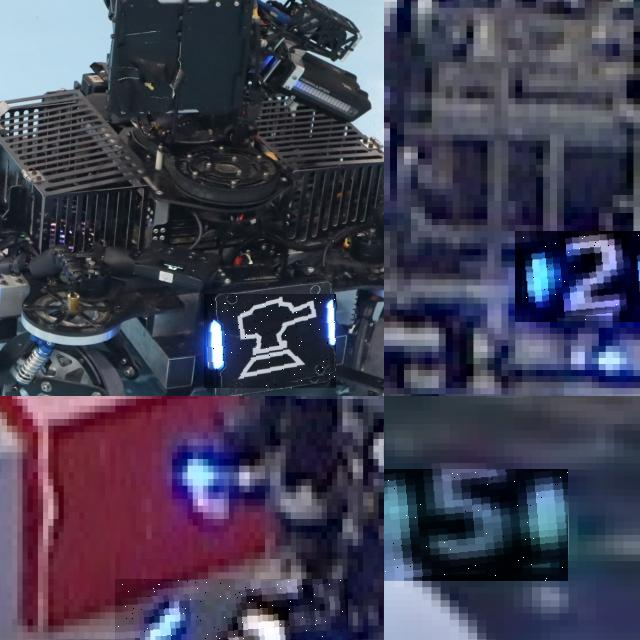B2: (515, 231, 640, 321)
B3: (115, 579, 347, 640)
B5: (384, 469, 568, 580)
Bs: (204, 294, 336, 388)
